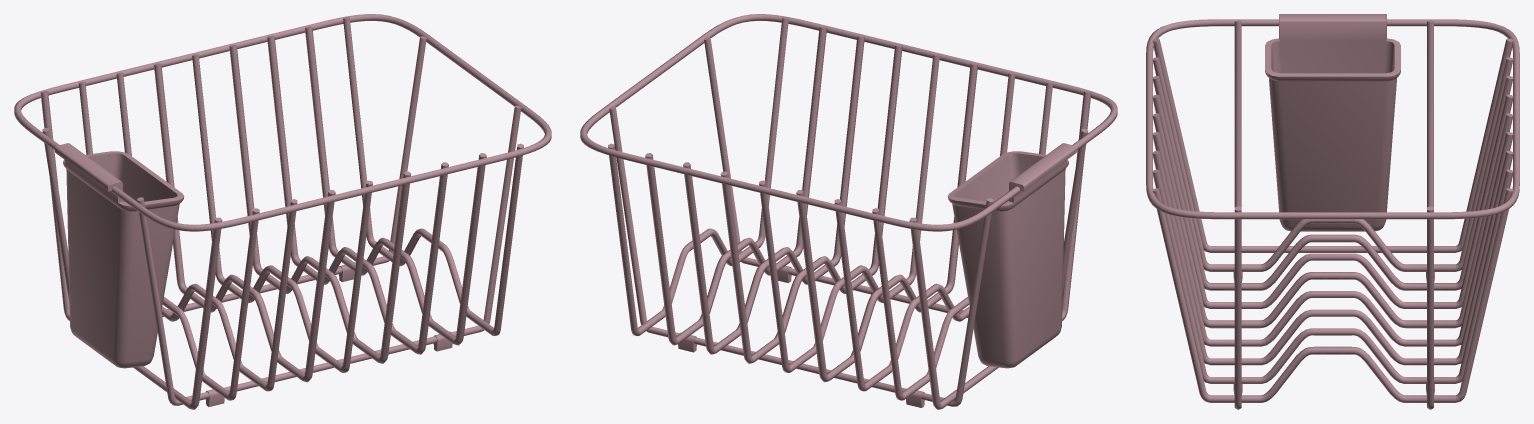
Rendered from dish_rack.obj.
3 renders of one model, left to right at view 1: azimuth 30°, elevation 25°; view 2: azimuth 150°, elevation 25°; view 3: azimuth 270°, elevation 25°, orthographic.
Bounding box in the file's own units: 0.42 × 0.227 × 0.3352.
